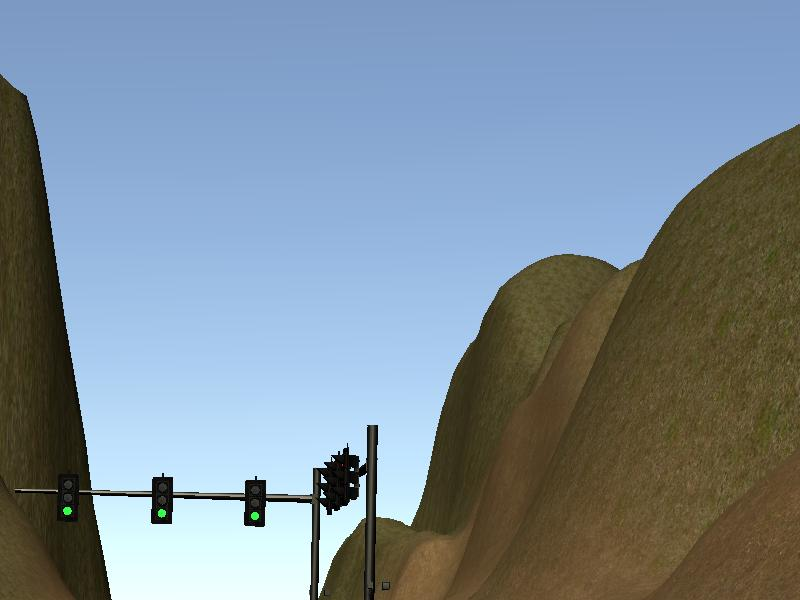Green: (57, 476, 78, 521), (245, 480, 264, 525), (154, 476, 171, 525)
